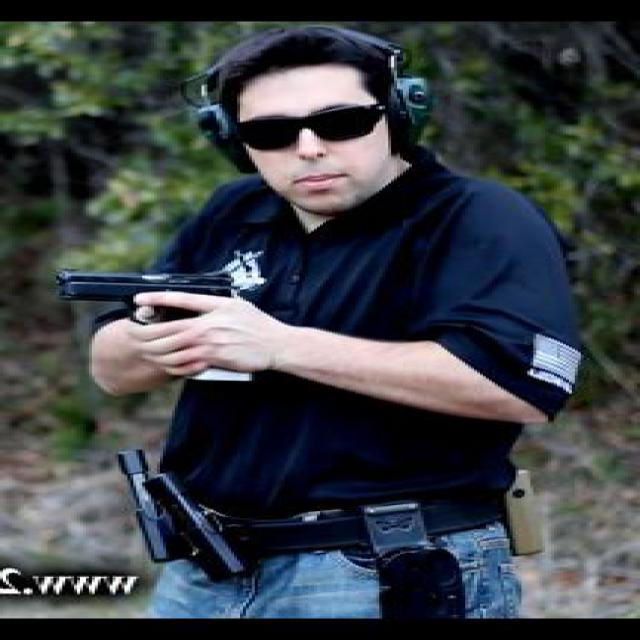Gun: (50, 265, 246, 385)
